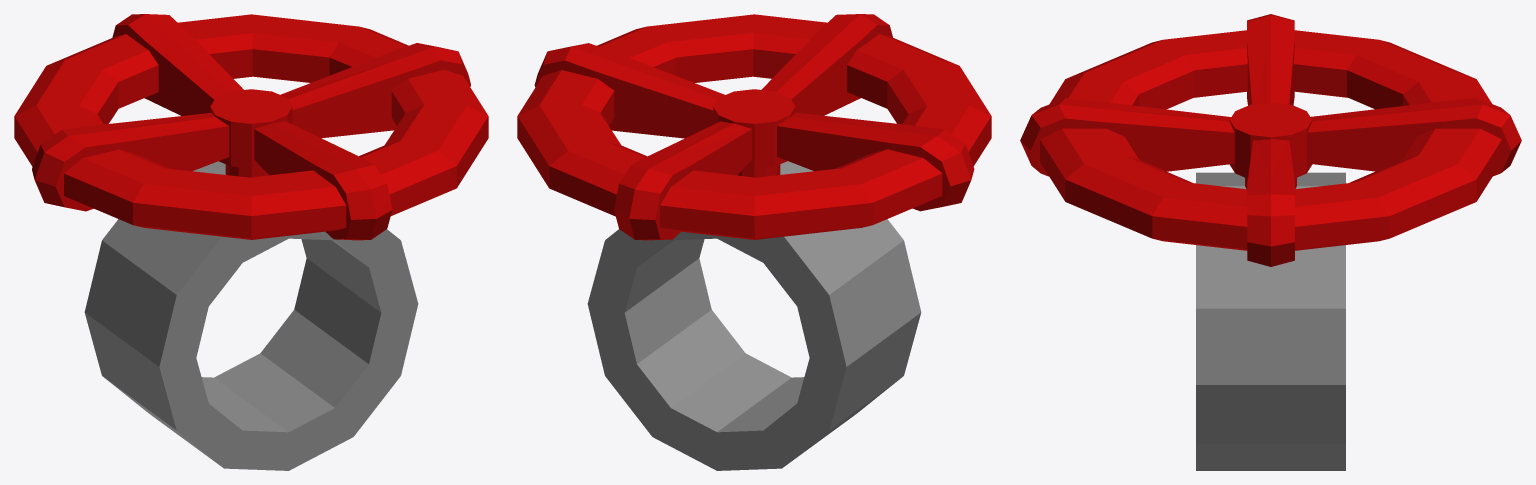
File: Prop_Industrial_Pipe_Valve_04.FBX
3 renders of one model, left to right at view 1: azimuth 30°, elevation 25°; view 2: azimuth 150°, elevation 25°; view 3: azimuth 270°, elevation 25°, orthographic.
Visible parts, largest first — view 1: Prop_Industrial_Pipe_Valve_04; view 2: Prop_Industrial_Pipe_Valve_04; view 3: Prop_Industrial_Pipe_Valve_04.
Part boxes in pixels (x1,y1,x2,y2): Prop_Industrial_Pipe_Valve_04: (14,14,488,470); Prop_Industrial_Pipe_Valve_04: (517,14,991,470); Prop_Industrial_Pipe_Valve_04: (1020,14,1521,470).
Size of the model in its own units: 703 by 546 by 703.
